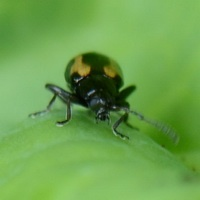insect: (29, 52, 178, 142)
